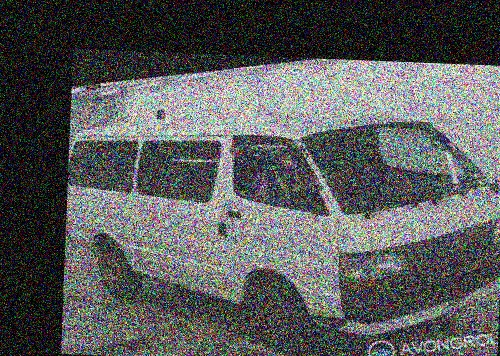van: (61, 53, 500, 356)
